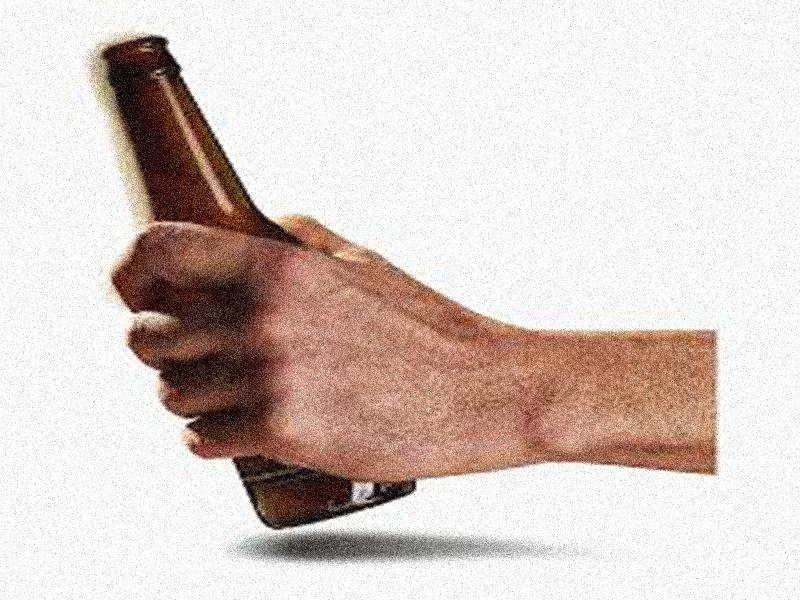Beer: (101, 38, 415, 535)
